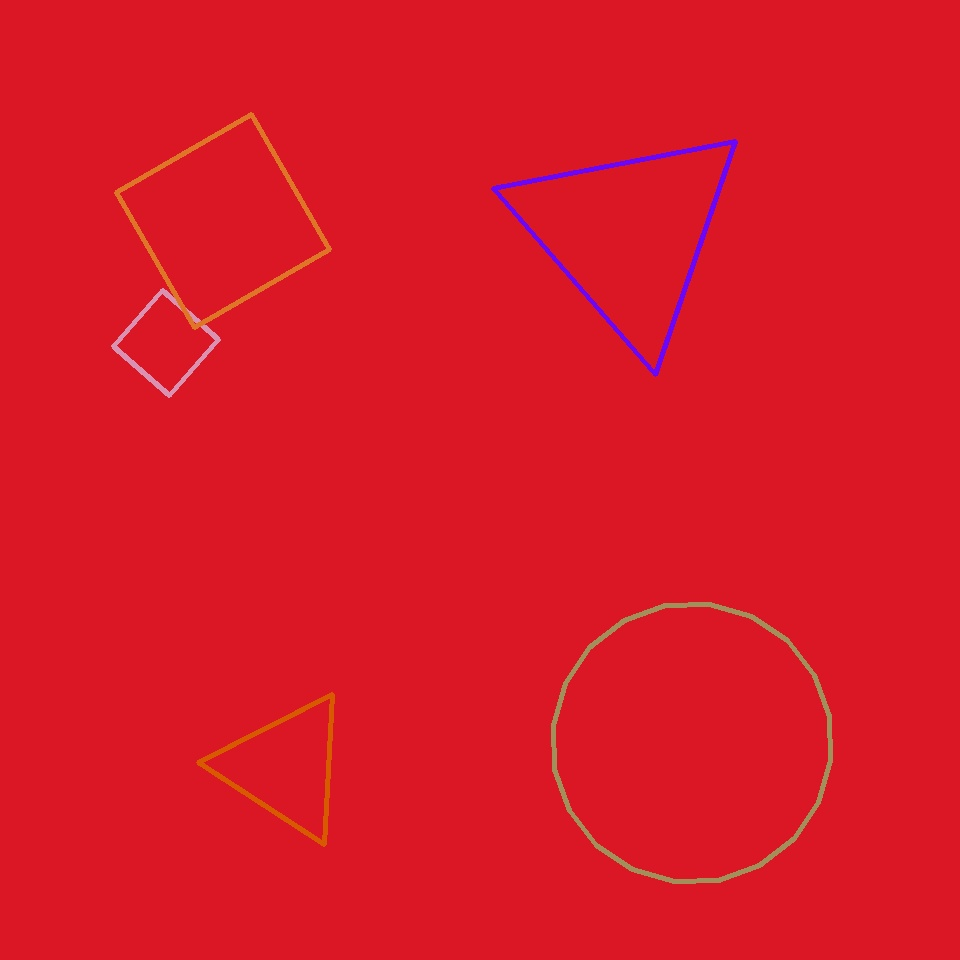circle: (507, 118, 749, 352), (218, 692, 352, 842)
square: (117, 114, 330, 328), (114, 290, 218, 396)
triangle: (554, 604, 830, 882)
